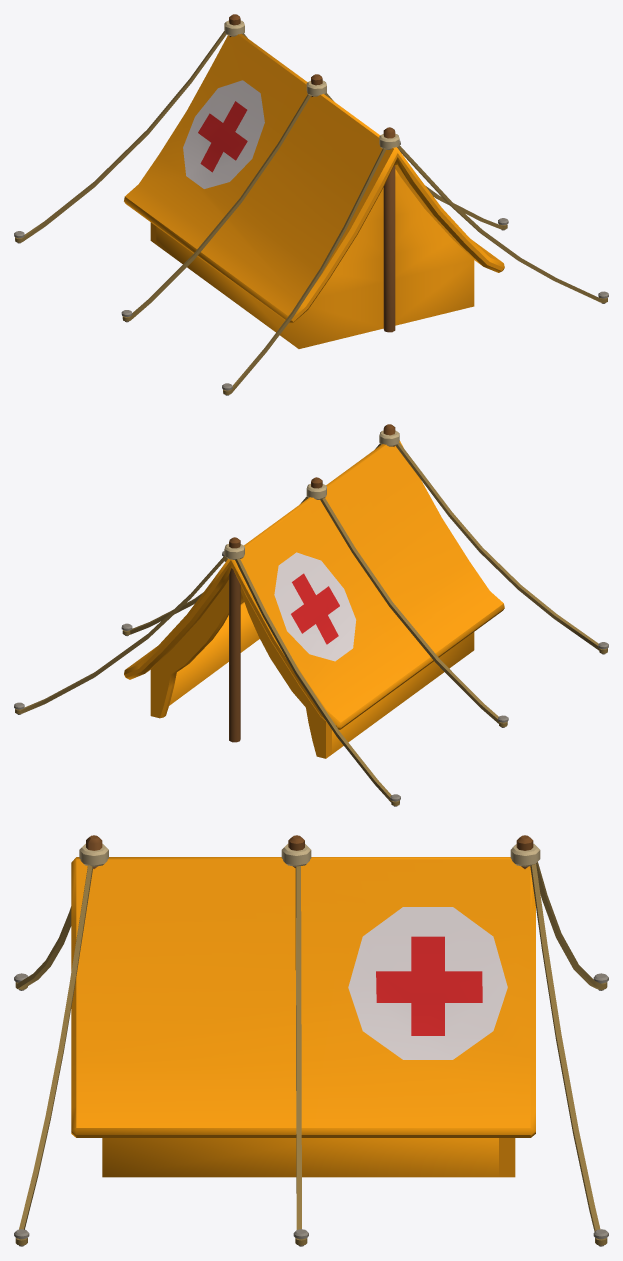
File: Tent_1_E.fbx
3 renders of one model, top to bottom at view 1: azimuth 30°, elevation 25°; view 2: azimuth 150°, elevation 25°; view 3: azimuth 270°, elevation 25°, orthographic. The views are drawn at different scales.
Parts seen in each view (by area): view 1: Tent_1_E; view 2: Tent_1_E; view 3: Tent_1_E.
Part boxes in pixels (box(x1,y1,x2,y2)): Tent_1_E: box(14, 14, 608, 395); Tent_1_E: box(14, 424, 608, 806); Tent_1_E: box(14, 835, 608, 1246).
Size of the model in its own units: 387 by 193 by 371.
